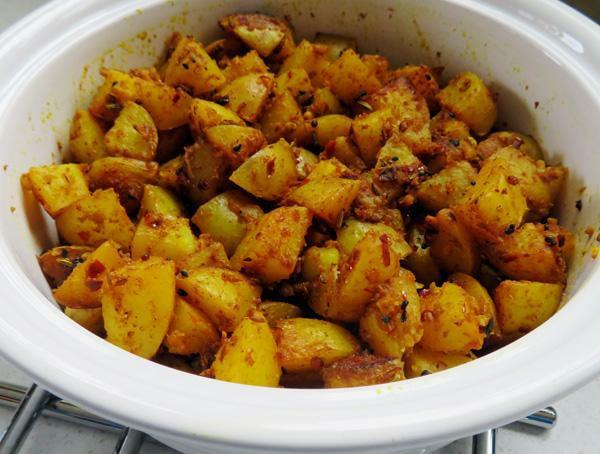AlooMasala: (21, 12, 575, 388)
